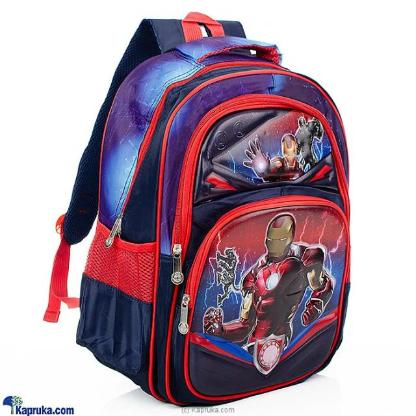bag: (44, 11, 354, 416)
